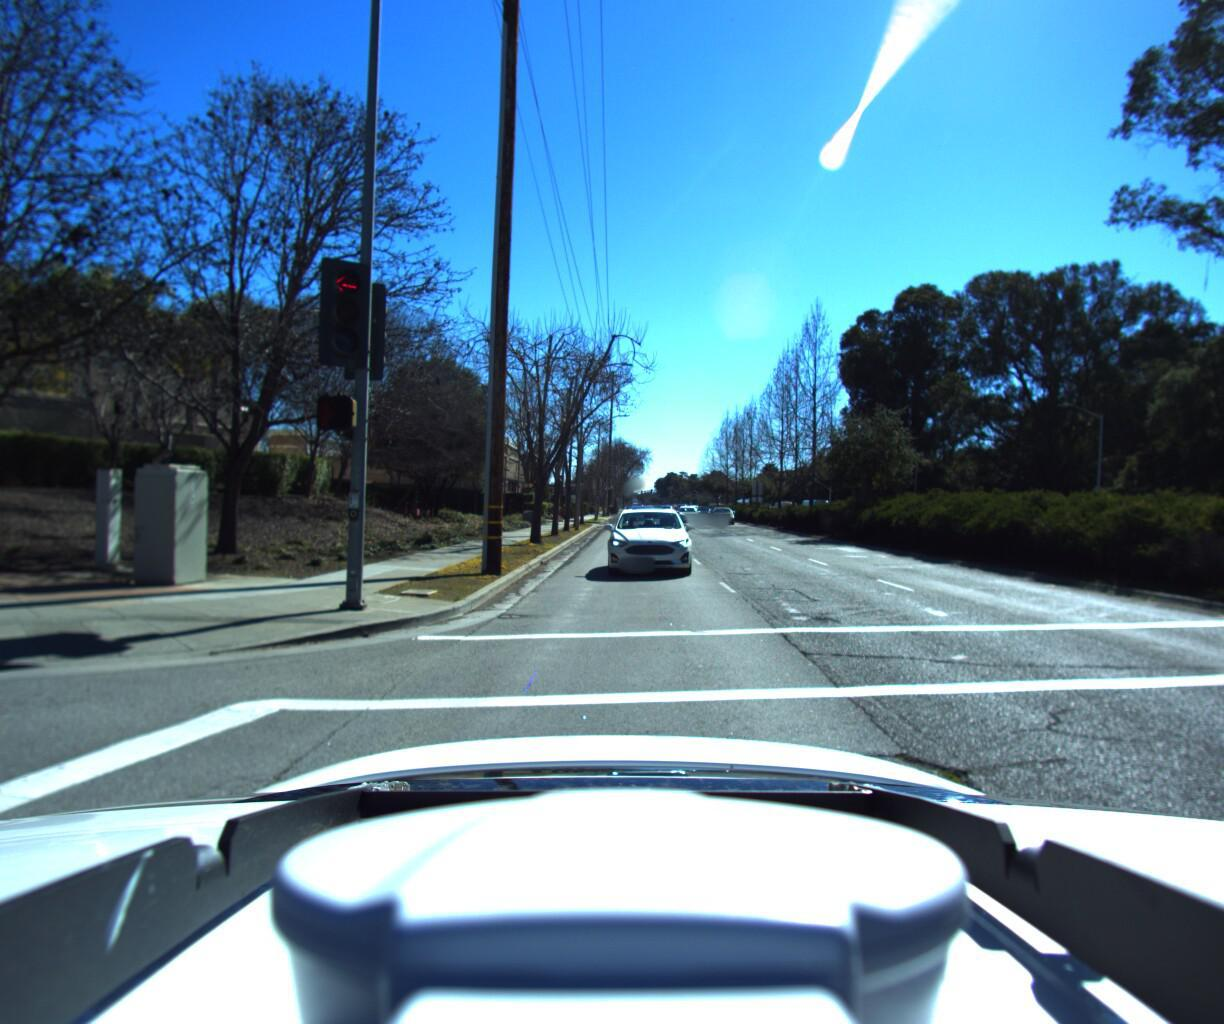car: (603, 504, 695, 580), (671, 502, 702, 524), (707, 503, 737, 523)
